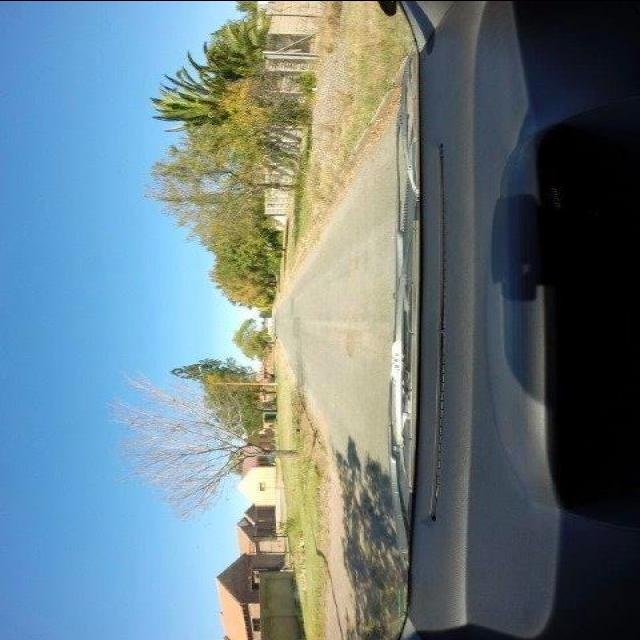lubang: (334, 322, 362, 360)
